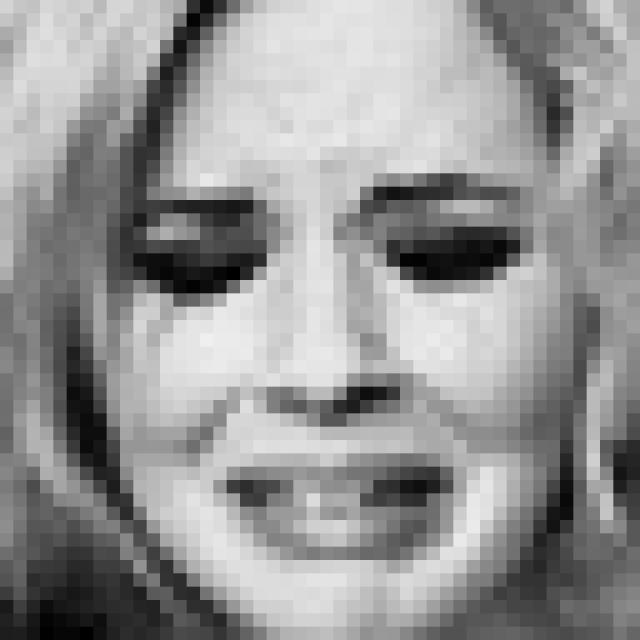sad: (112, 160, 542, 577)
